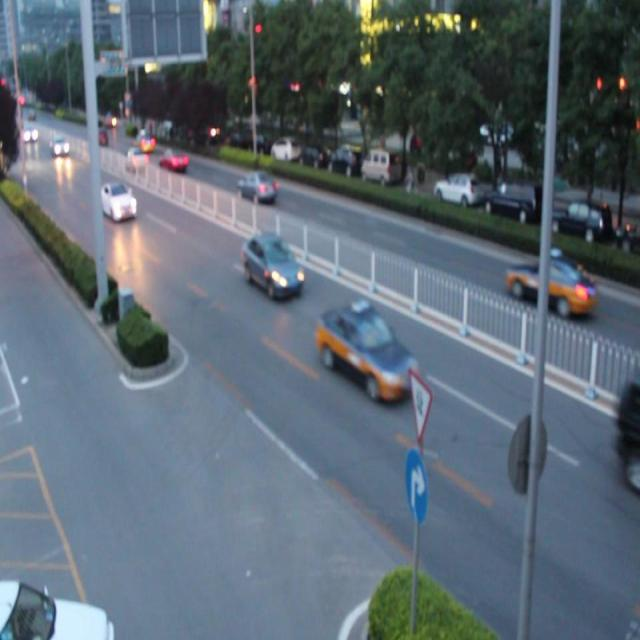car: (318, 303, 416, 400), (1, 577, 113, 640), (506, 254, 594, 318), (242, 233, 300, 297), (100, 184, 136, 221), (236, 171, 275, 200), (159, 151, 187, 171), (125, 149, 148, 169)
